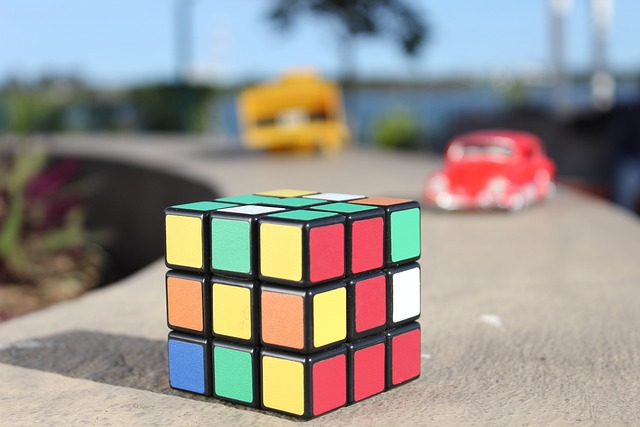cube: (165, 188, 423, 421)
